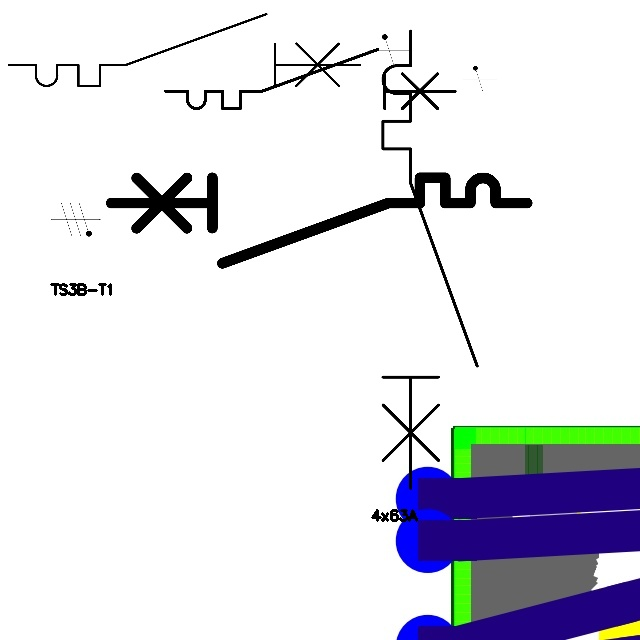interruptor_termomagnetico: (371, 19, 488, 500), (100, 167, 537, 274), (0, 5, 369, 95), (158, 42, 463, 116)
